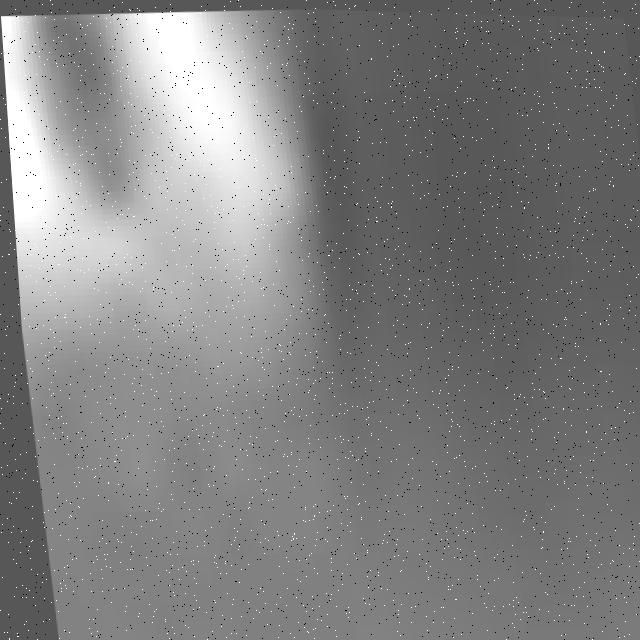person: (100, 5, 323, 396), (2, 12, 138, 500)
